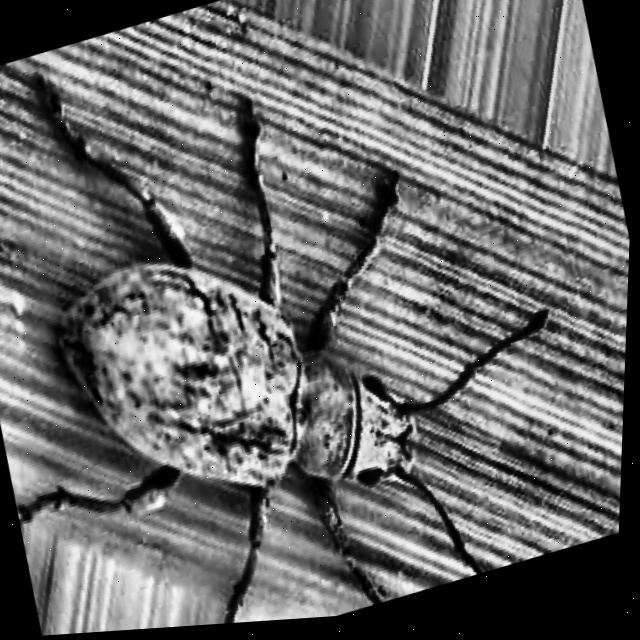Stink bug: (0, 0, 576, 640)
